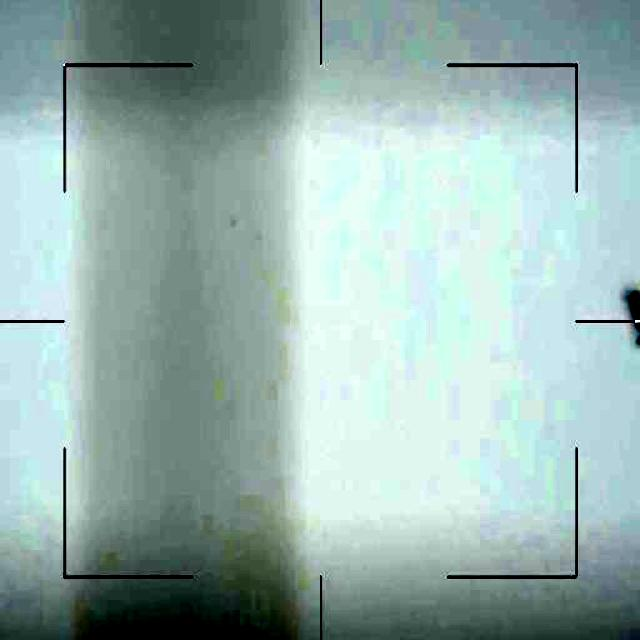bird: (619, 279, 640, 350)
